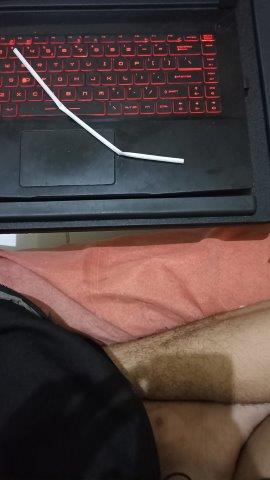sedotan: (13, 48, 184, 163)
